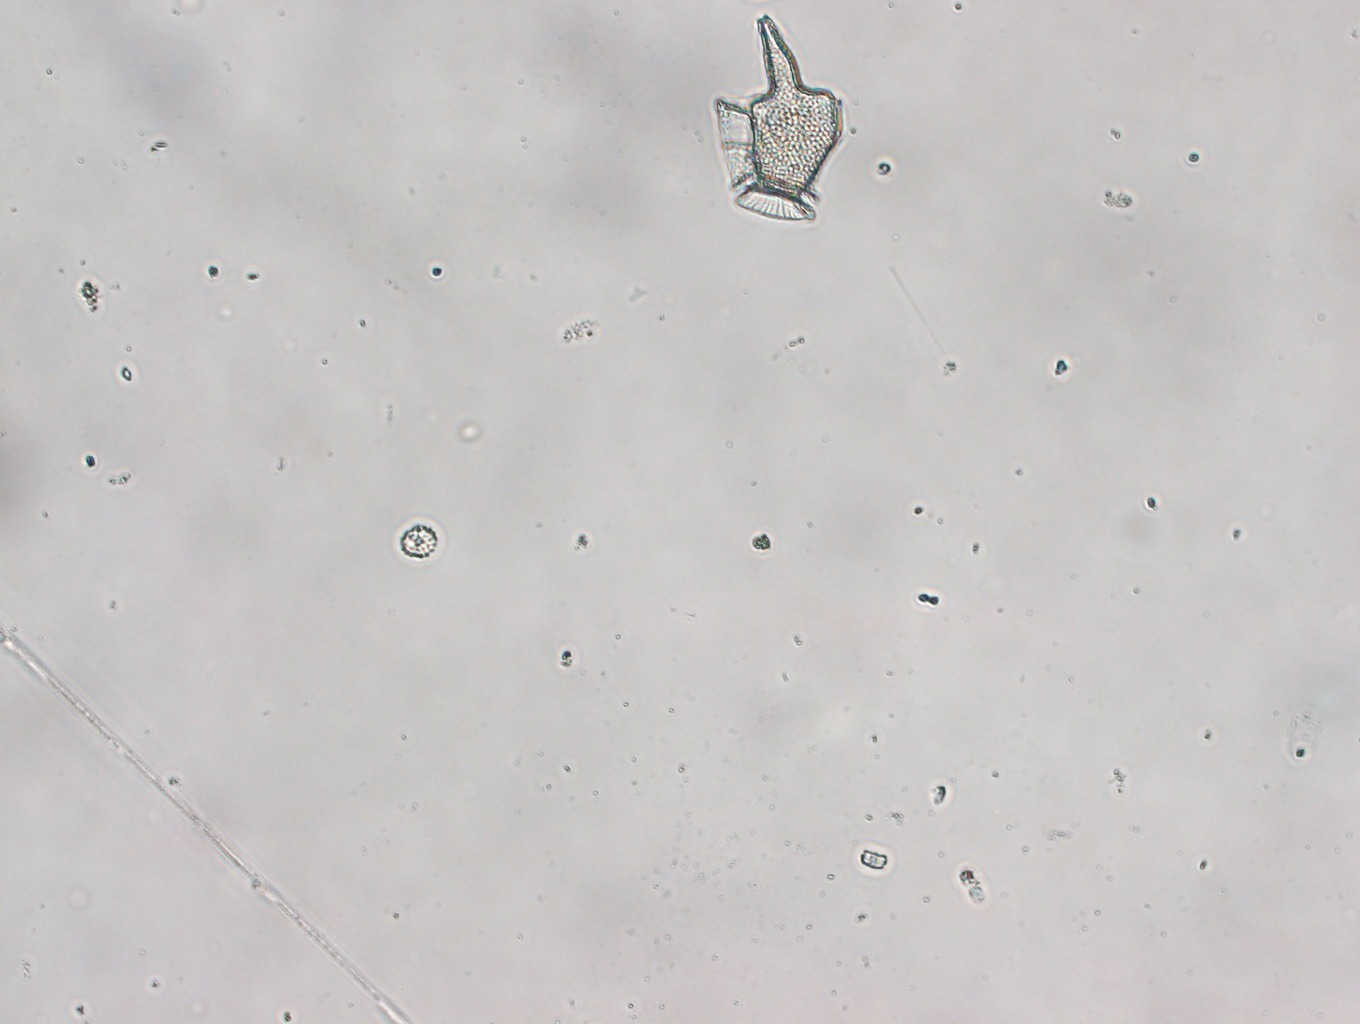dinophysis caudata: (712, 12, 847, 221)
